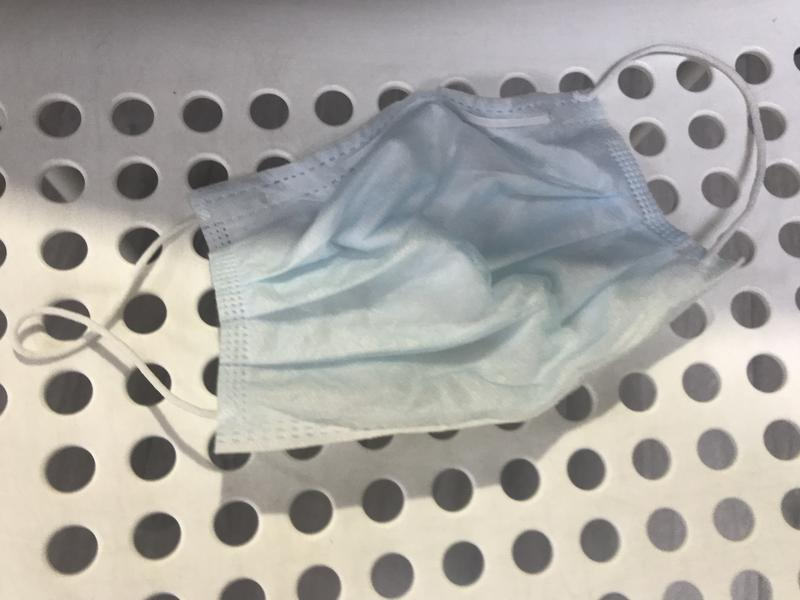medical_mask: (12, 42, 766, 458)
